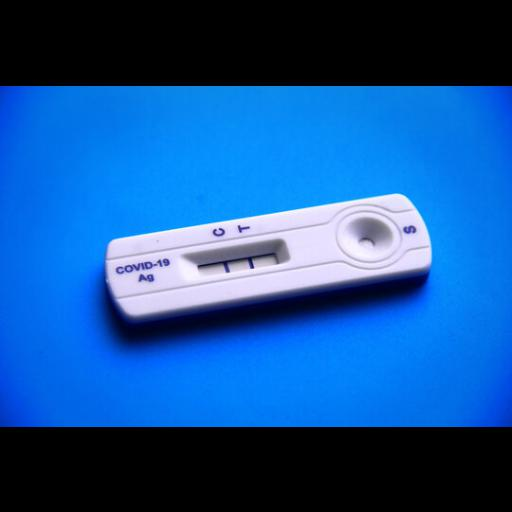Pos: (104, 192, 436, 316)
